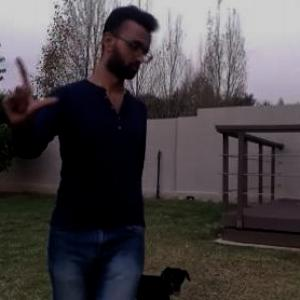land_hand: (0, 49, 60, 130)
